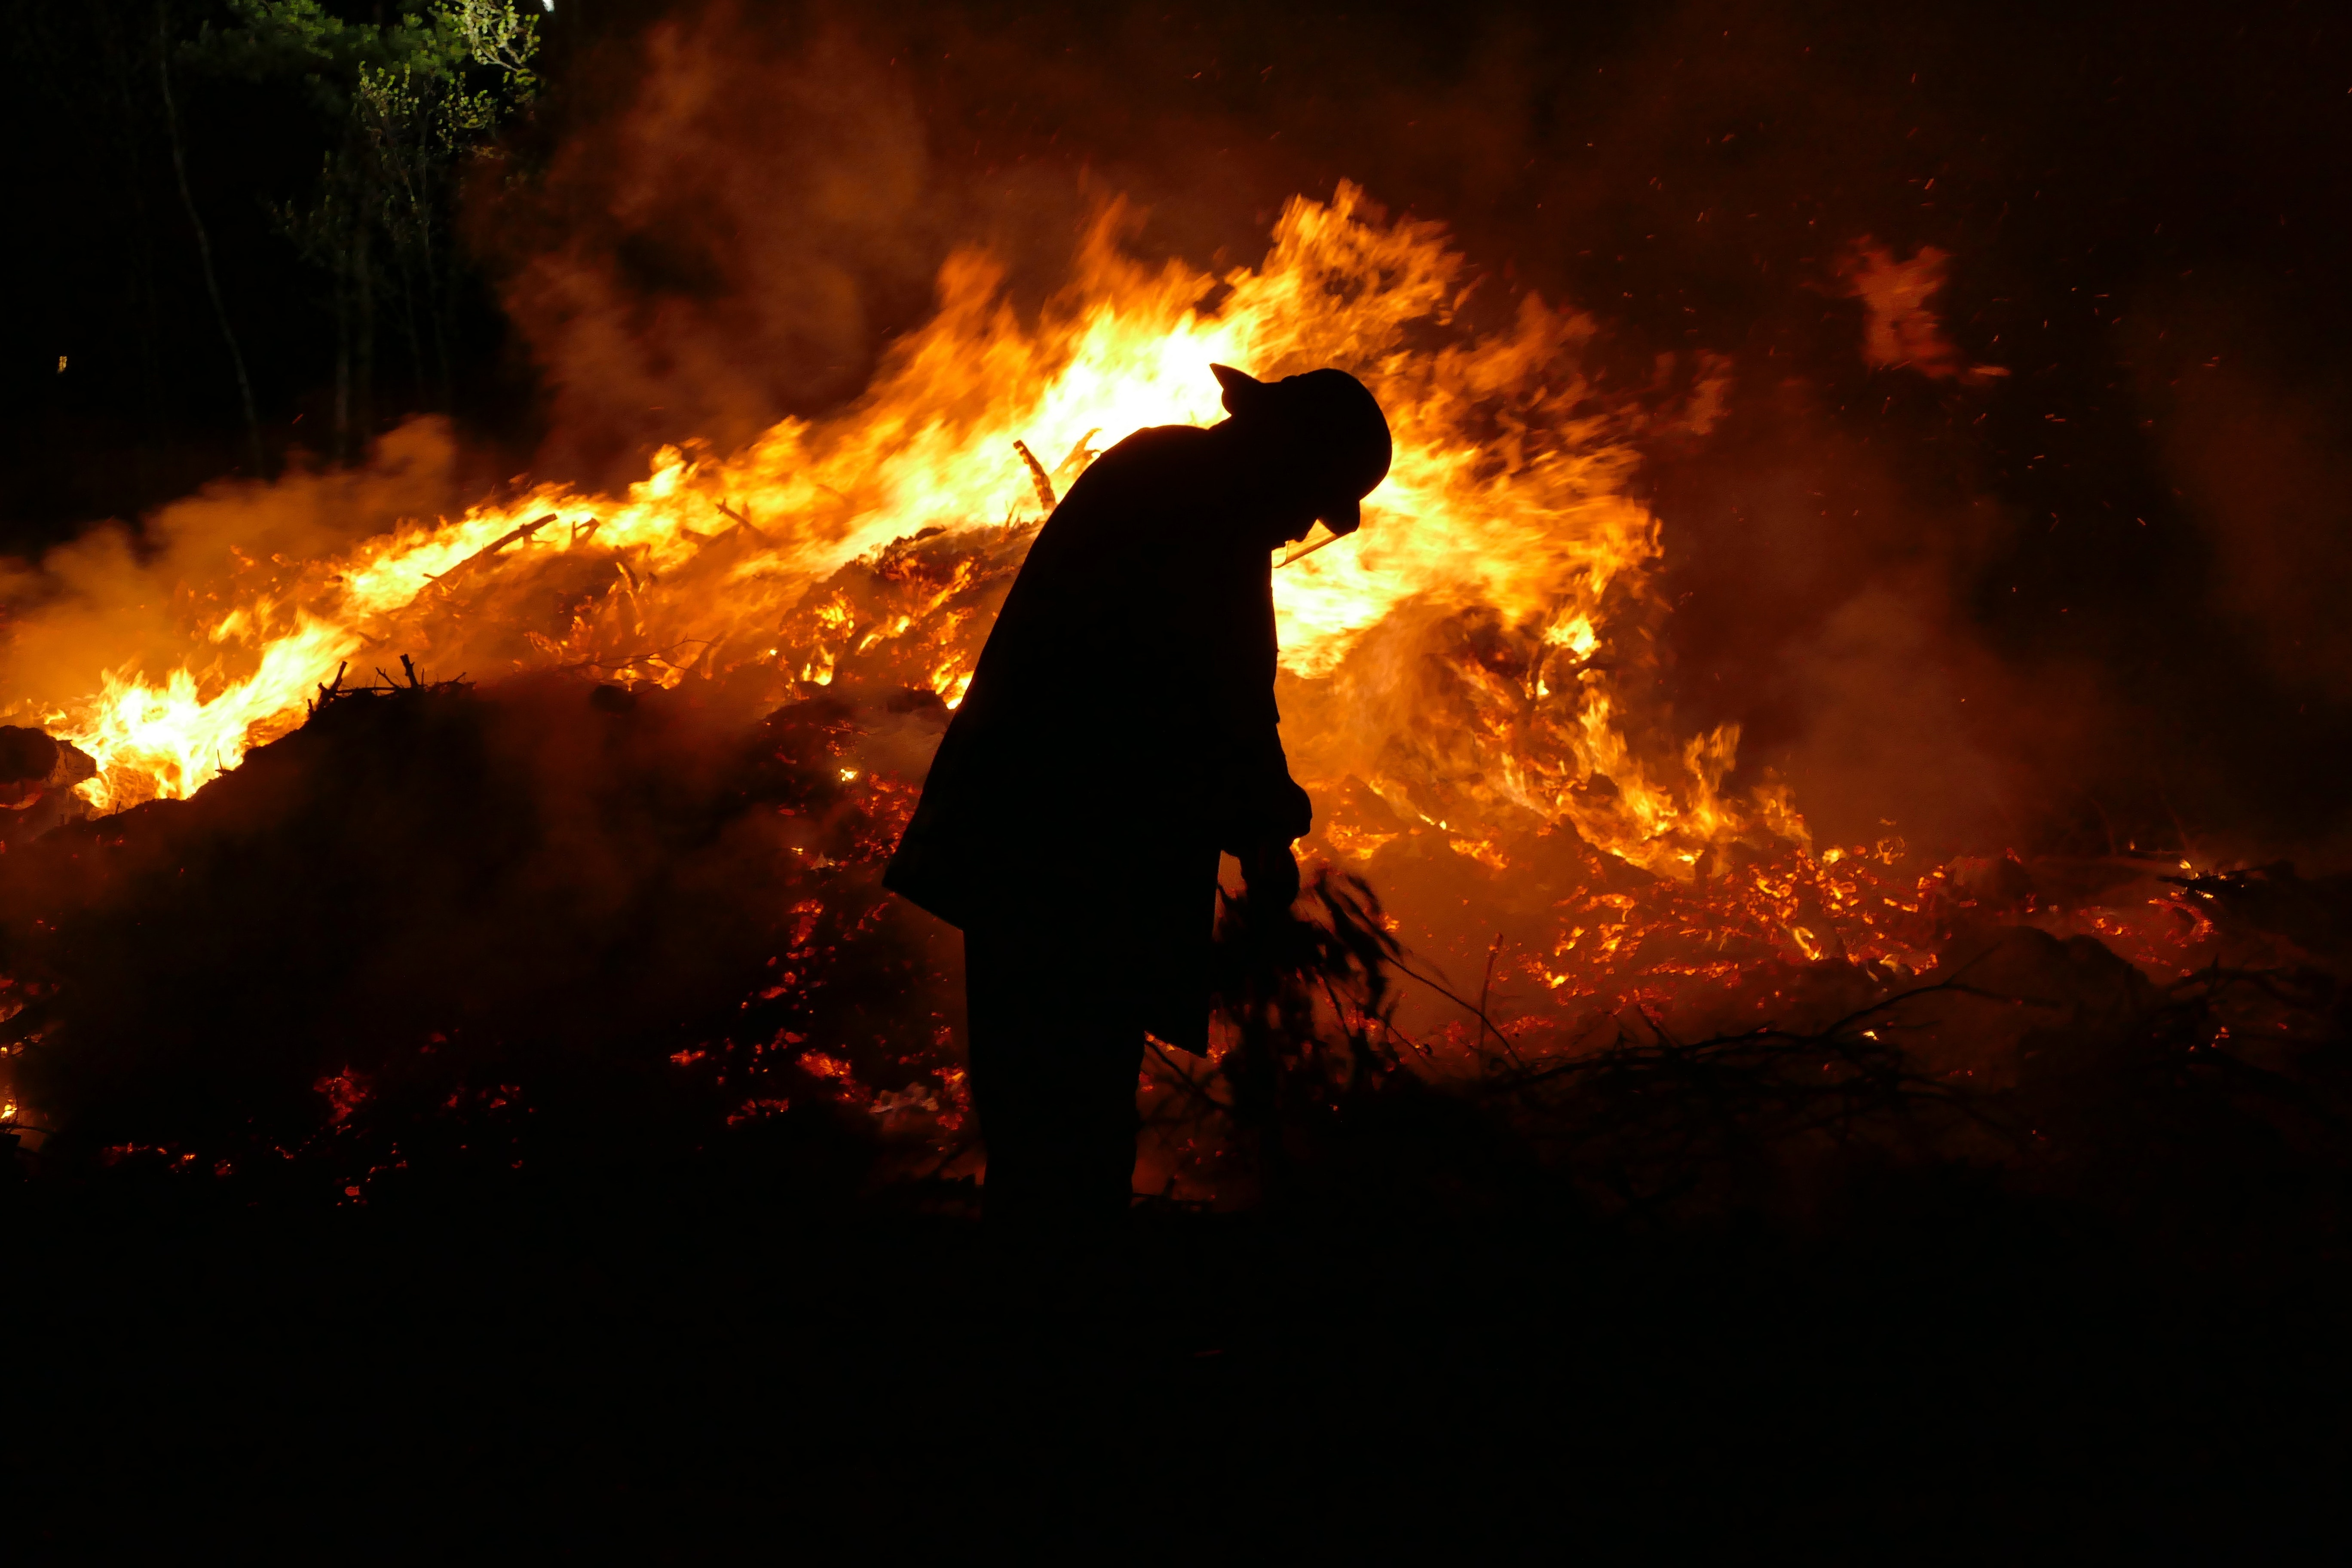fire: (1260, 427, 1906, 992), (1274, 437, 1690, 688)
